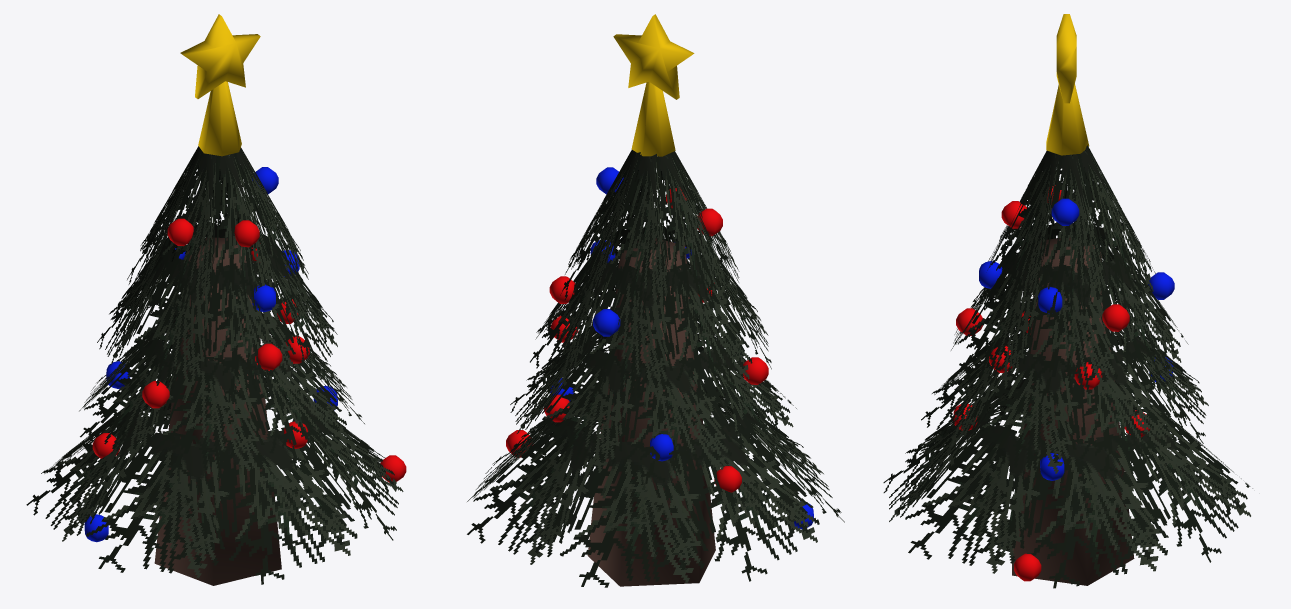
Rendered from Mesh_Tree.fbx.
3 renders of one model, left to right at view 1: azimuth 30°, elevation 25°; view 2: azimuth 150°, elevation 25°; view 3: azimuth 270°, elevation 25°, orthographic.
Parts seen in each view (by area): view 1: Tree, Stump, Balls, Star; view 2: Tree, Stump, Star, Balls; view 3: Tree, Stump, Balls, Star.
Boxes of the visible parts, x1=… form: Tree: x1=26, y1=146, x2=403, y2=584; Stump: x1=154, y1=237, x2=281, y2=585; Balls: x1=84, y1=167, x2=406, y2=542; Star: x1=180, y1=14, x2=260, y2=156; Tree: x1=467, y1=150, x2=844, y2=587; Stump: x1=587, y1=238, x2=715, y2=586; Star: x1=613, y1=14, x2=694, y2=156; Balls: x1=506, y1=167, x2=813, y2=529; Tree: x1=883, y1=145, x2=1252, y2=588; Stump: x1=1012, y1=237, x2=1134, y2=585; Balls: x1=953, y1=185, x2=1174, y2=581; Star: x1=1046, y1=14, x2=1089, y2=155.
Size of the model in its own units: 1.96 by 2.9 by 1.91.
Materials: 5 (1 with a texture image).
